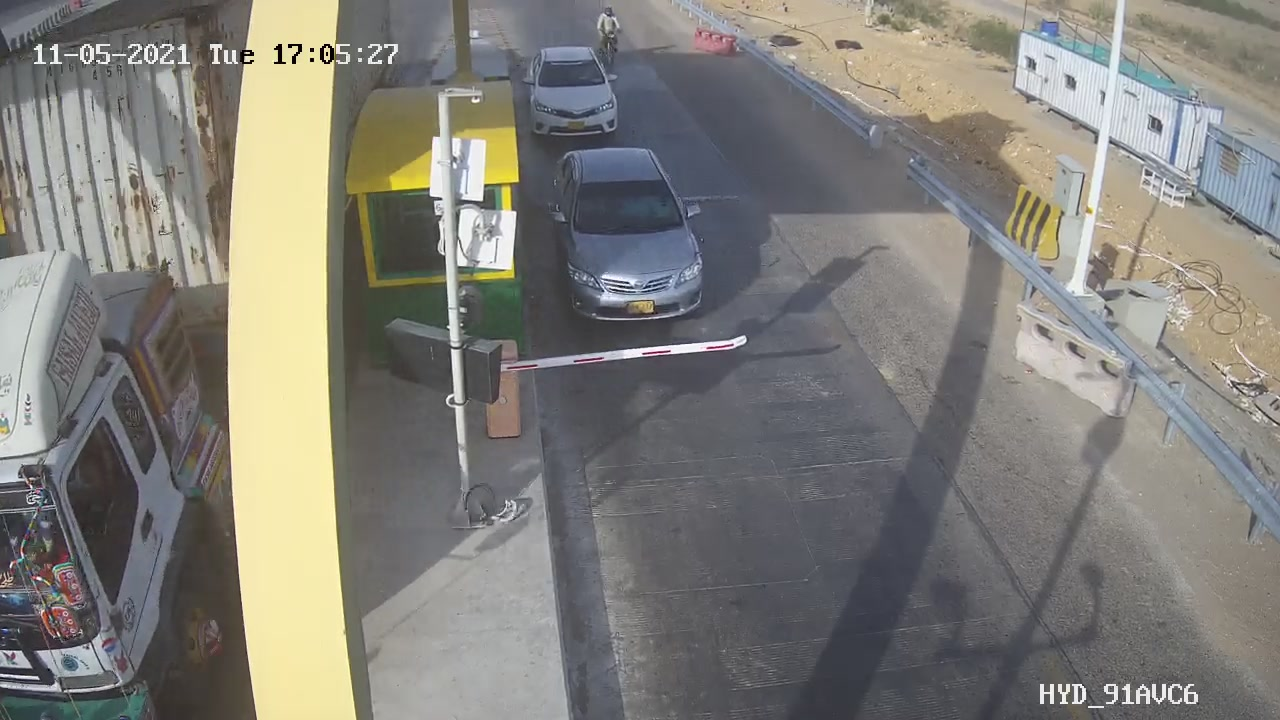F1: (529, 135, 730, 339), (512, 35, 647, 151)
